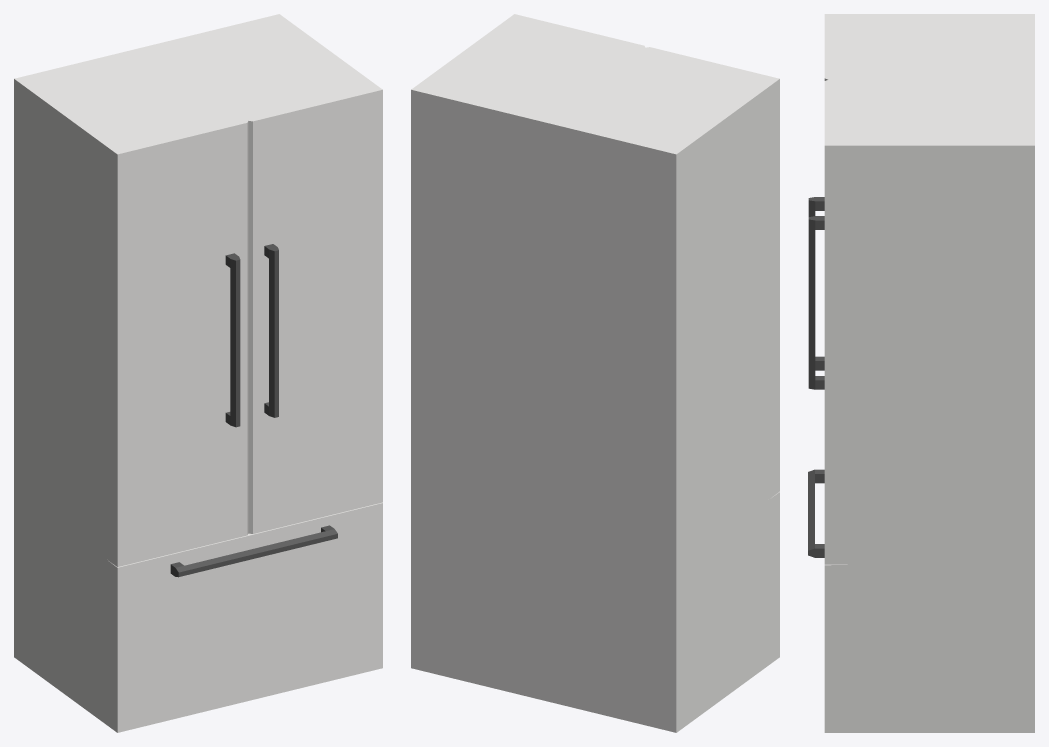
File: Fridge_5.fbx
3 renders of one model, left to right at view 1: azimuth 30°, elevation 25°; view 2: azimuth 150°, elevation 25°; view 3: azimuth 270°, elevation 25°, orthographic.
Visible parts, largest first — view 1: Fridge_5; view 2: Fridge_5; view 3: Fridge_5.
Boxes of the visible parts, x1,y1,x2,y2 form: Fridge_5: [14, 14, 382, 732]; Fridge_5: [411, 14, 779, 732]; Fridge_5: [808, 14, 1034, 732].
Bounding box in the file's own units: 120 × 87.23 × 249.
